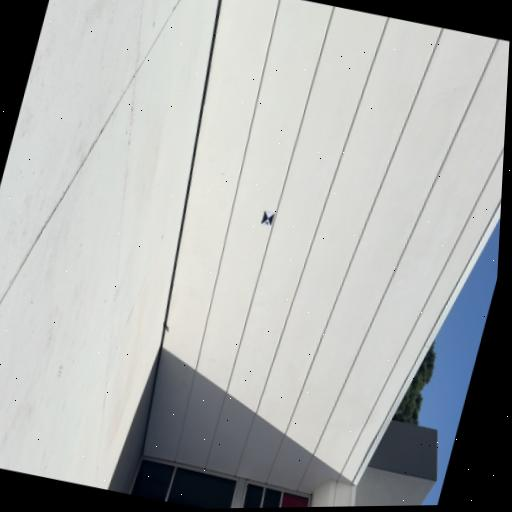target7: (261, 209, 274, 226)
